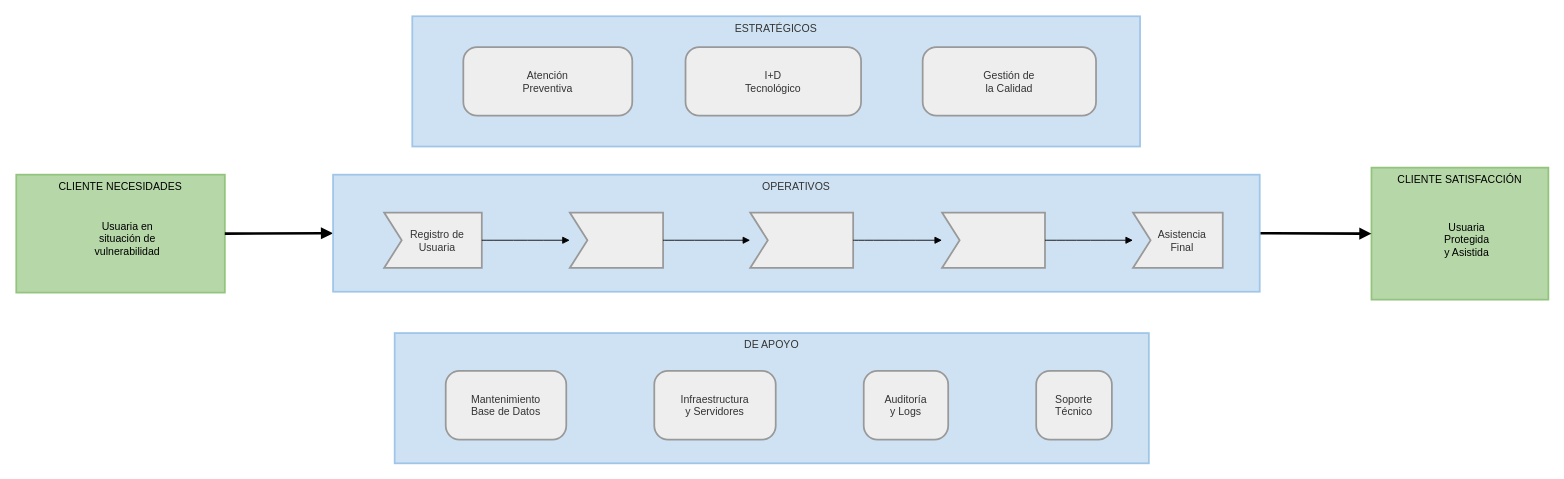
Image size: 1564x479. Some labels were removed from this diagram. The shapes that lost their labels are listed below. From the top down, each one's centre as x and y in pixels, then its label:
[616,239]: Activación Alerta SOS
[801,239]: Rastreo GPS en Vivo
[993,239]: Notificación Contactos
